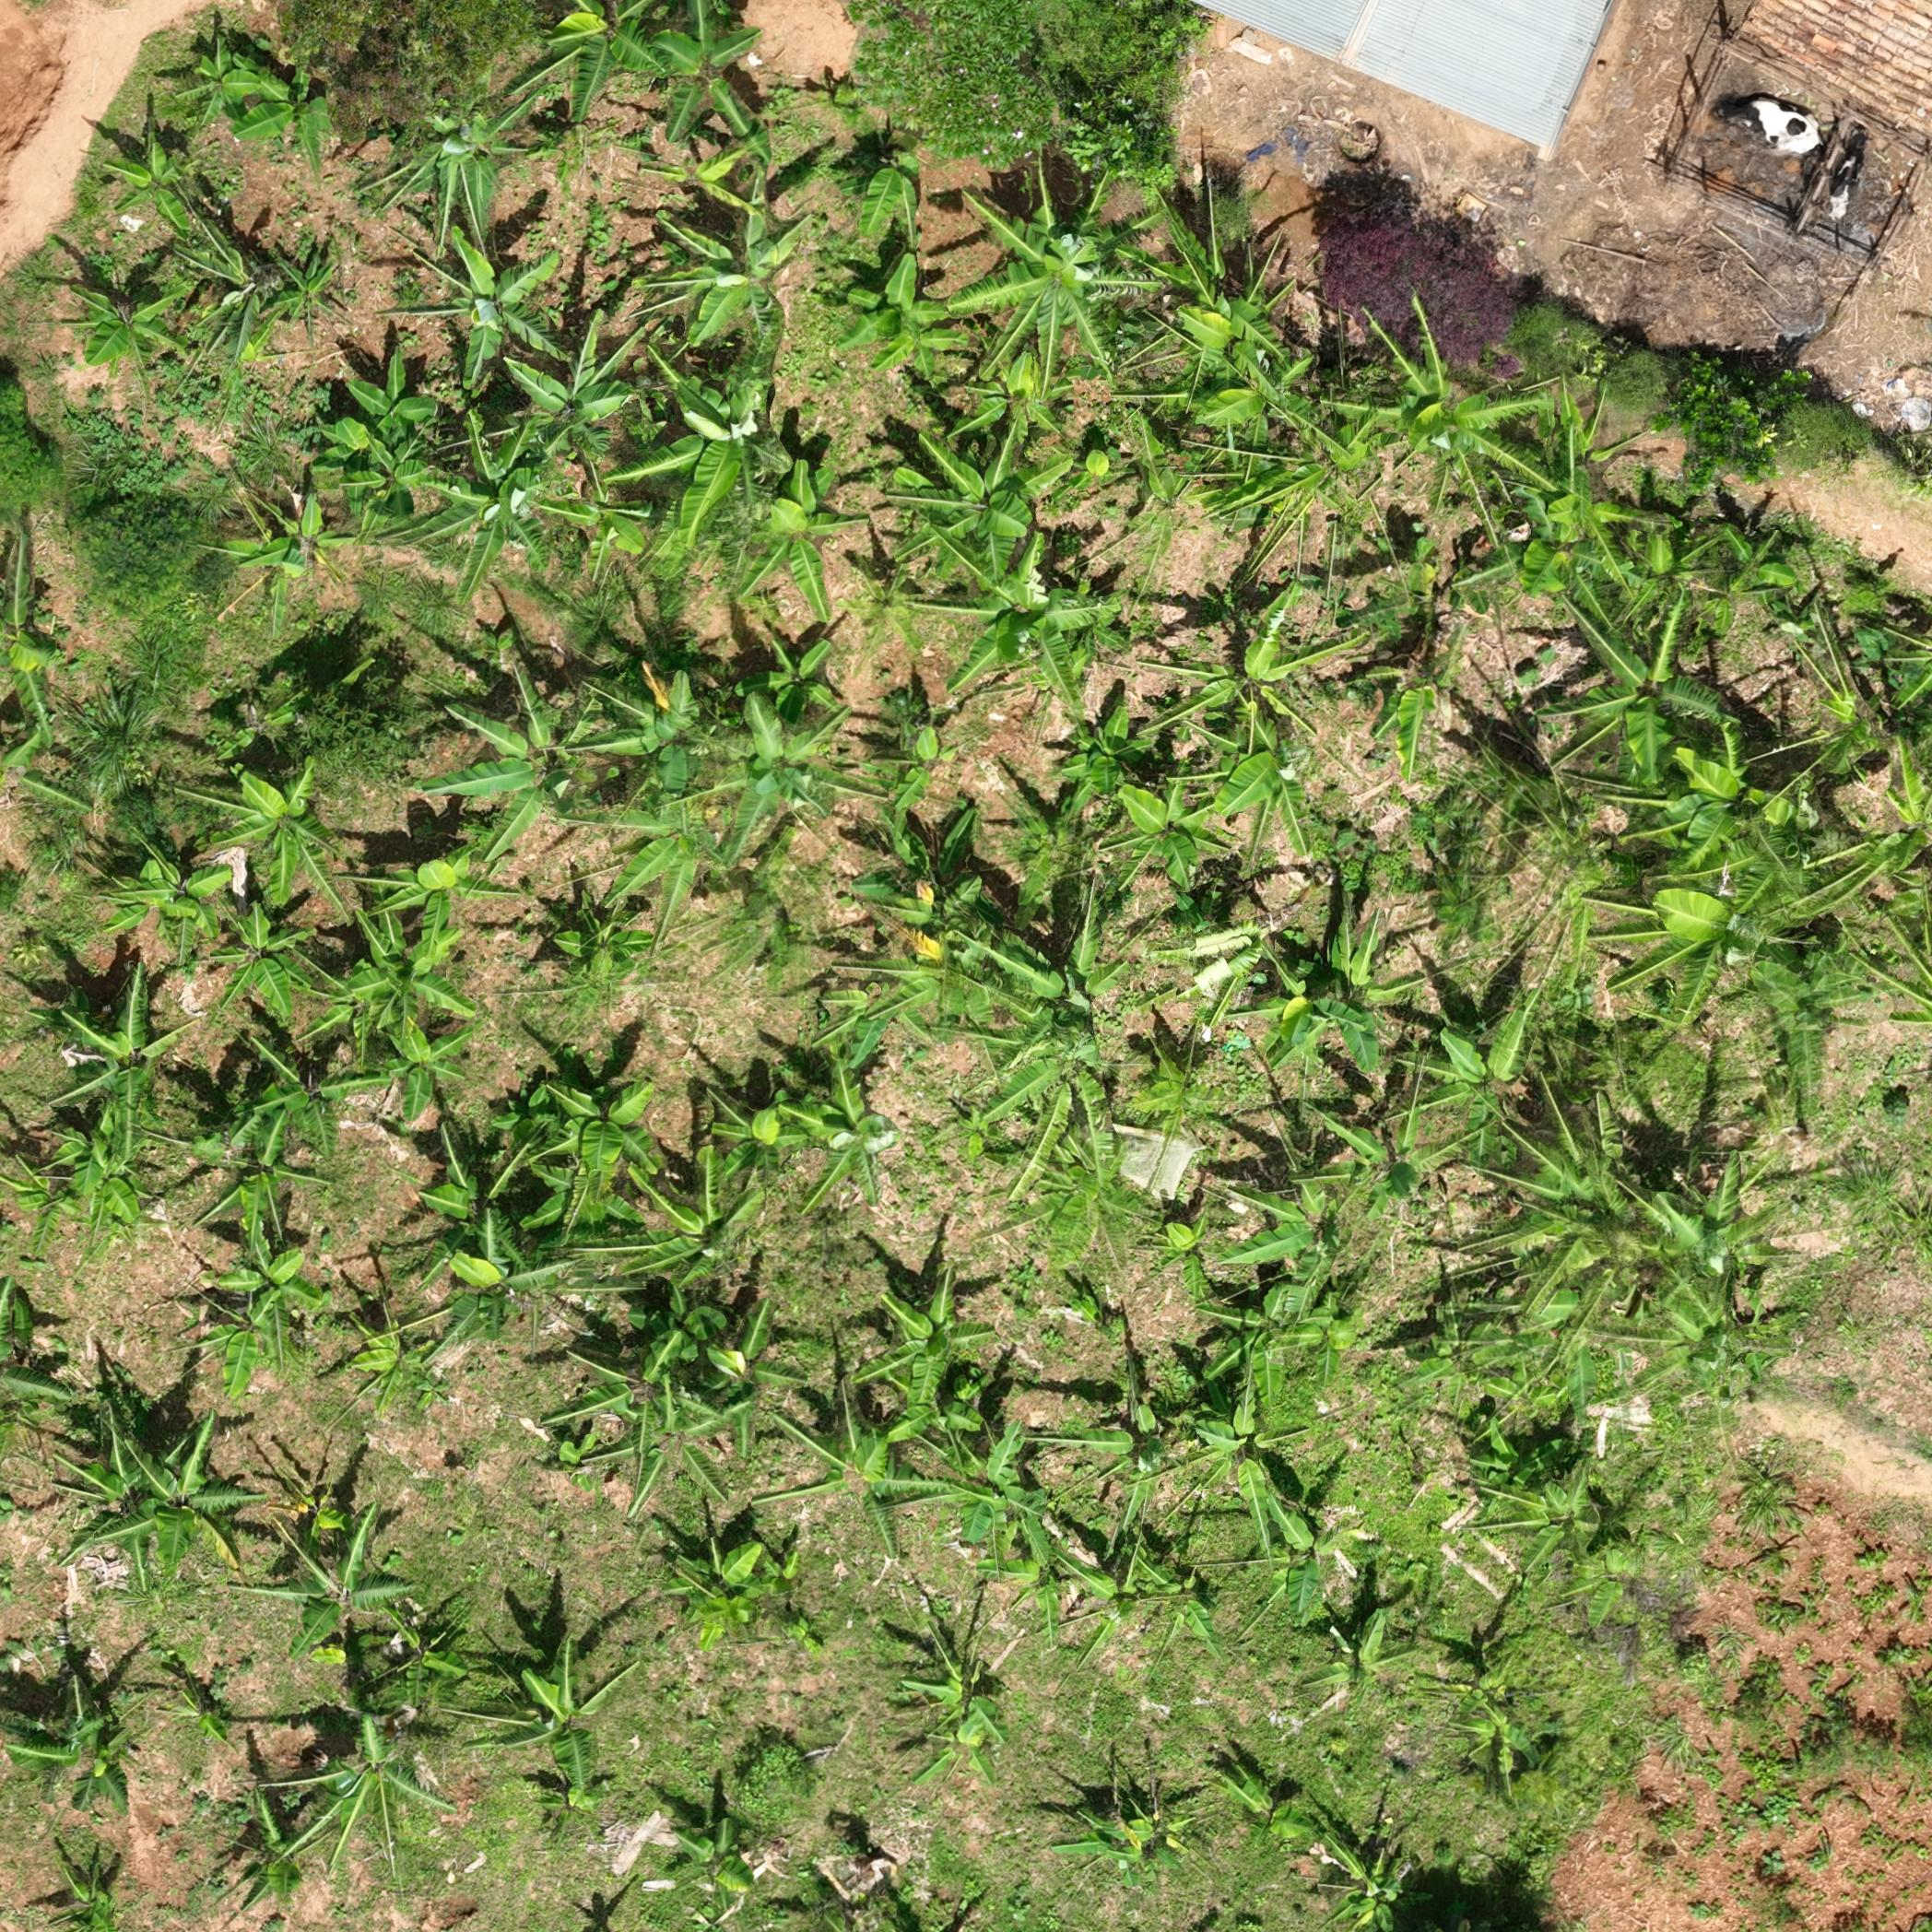Banana: (1171, 225, 1318, 462), (966, 182, 1129, 386), (640, 350, 761, 596), (1391, 329, 1545, 497), (1812, 766, 1921, 1000), (448, 405, 566, 617), (932, 566, 1120, 695), (734, 648, 855, 826), (326, 366, 446, 541), (939, 901, 1081, 1049), (1562, 625, 1690, 789), (993, 1054, 1115, 1210), (1198, 1384, 1306, 1555), (1523, 1116, 1626, 1292), (60, 1019, 186, 1159), (460, 683, 579, 830), (1247, 1189, 1353, 1348), (1665, 862, 1789, 996), (1651, 513, 1787, 632), (138, 1430, 249, 1573), (1477, 1449, 1612, 1568), (609, 679, 715, 828), (901, 451, 1042, 563), (1288, 922, 1389, 1077), (1562, 409, 1628, 630), (191, 228, 311, 349), (361, 908, 467, 1040), (672, 225, 784, 349), (255, 1053, 356, 1189), (1219, 616, 1345, 722), (341, 1732, 441, 1865), (538, 1088, 637, 1221), (911, 1645, 1016, 1769), (288, 1541, 402, 1654), (522, 1652, 605, 1806), (226, 48, 333, 166), (805, 1428, 916, 1537), (232, 1217, 311, 1369), (1640, 1157, 1752, 1263), (855, 258, 954, 377), (775, 464, 851, 616), (1635, 1279, 1752, 1378), (665, 1293, 775, 1398), (32, 1695, 134, 1806), (961, 1449, 1046, 1582), (879, 1288, 973, 1407), (663, 28, 761, 142), (441, 1235, 543, 1341), (662, 1164, 770, 1265), (226, 782, 331, 885), (557, 0, 642, 119), (628, 1384, 711, 1504), (793, 1083, 888, 1187), (433, 99, 510, 228), (1700, 747, 1794, 851), (242, 494, 318, 619), (120, 849, 228, 934), (1129, 787, 1210, 897), (80, 288, 188, 370), (1435, 1026, 1507, 1146), (1139, 1559, 1224, 1652), (44, 1164, 143, 1244), (683, 1532, 768, 1624), (101, 131, 184, 225), (14, 559, 50, 778), (451, 1143, 529, 1238), (1224, 747, 1297, 833), (1481, 1683, 1534, 1794), (1325, 1847, 1394, 1930), (1093, 1792, 1154, 1872), (683, 1835, 763, 1893), (1327, 1615, 1384, 1697), (366, 1334, 426, 1407)
